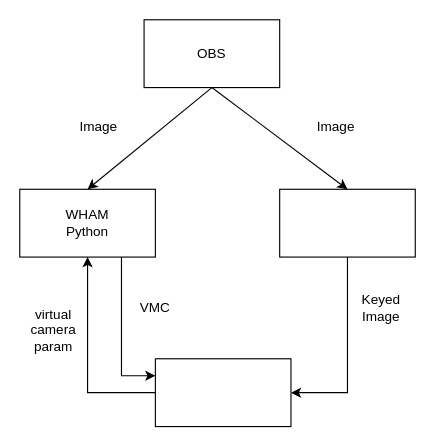
The diagram is 435 pixels wide and 446 high, and some of its shapes have lost their labels. Here are the shapes that lost their labels. From the top down, the centre of each, then its label:
At point 347,222: "Agent".
At point 222,392: "LiveXR".
